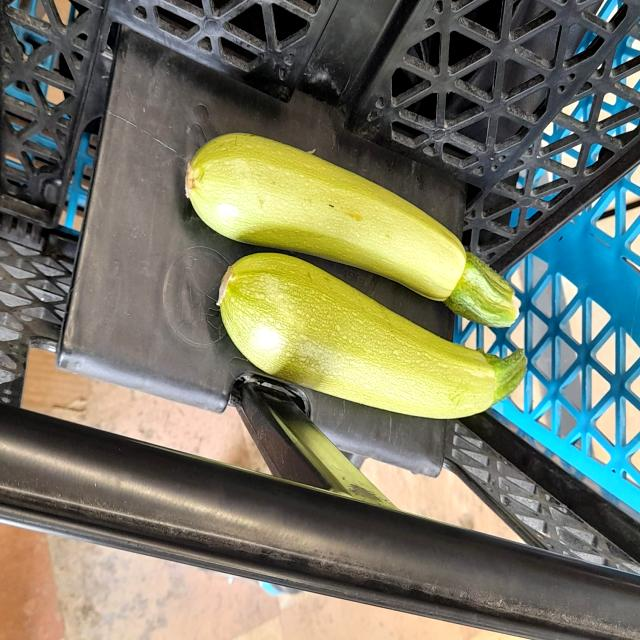zucchini: (180, 110, 524, 327), (208, 246, 531, 422)
